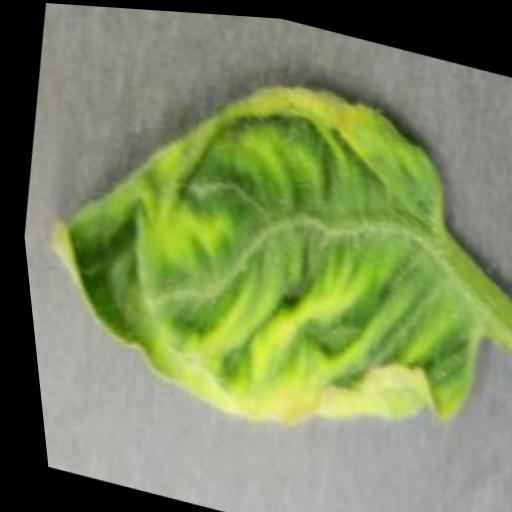Yellow Leaf Curl Virus: (2, 21, 512, 476)
